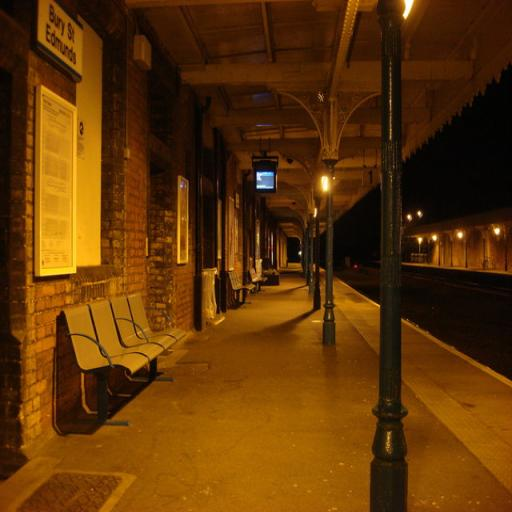platform_edge: (331, 280, 512, 508)
